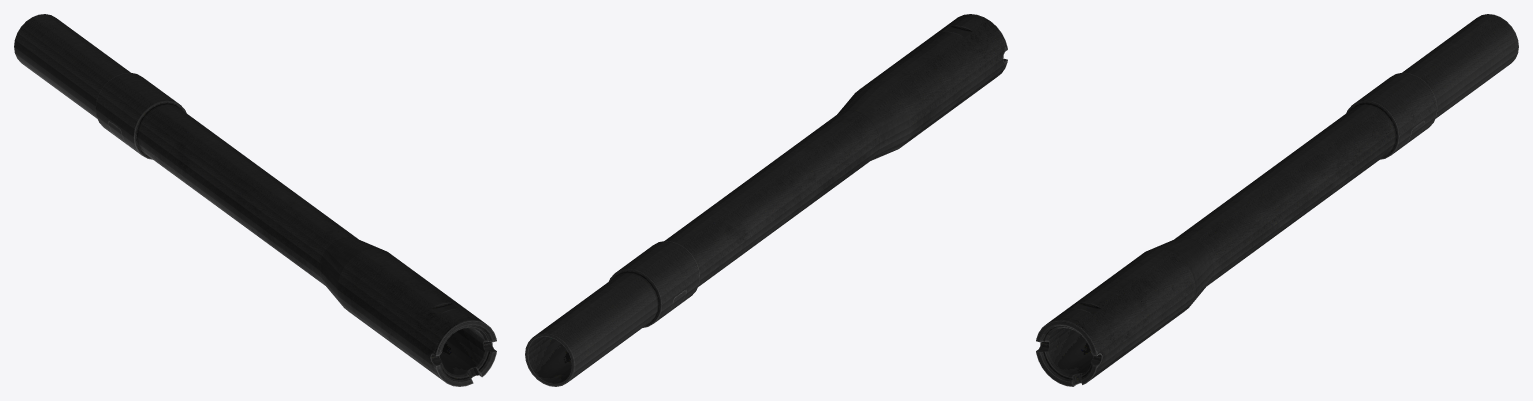
The picture shows the model from 3 angles, left to right: view 1: azimuth 30°, elevation 25°; view 2: azimuth 150°, elevation 25°; view 3: azimuth 330°, elevation 25°; orthographic projection.
Parts seen in each view (by area): view 1: TW_66ffac601f7492c901027bbb_PZ_Import; view 2: TW_66ffac601f7492c901027bbb_PZ_Import; view 3: TW_66ffac601f7492c901027bbb_PZ_Import.
Part boxes in pixels (x1,y1,x2,y2): TW_66ffac601f7492c901027bbb_PZ_Import: (14, 14, 496, 386); TW_66ffac601f7492c901027bbb_PZ_Import: (525, 14, 1007, 386); TW_66ffac601f7492c901027bbb_PZ_Import: (1036, 14, 1518, 386).
Bounding box in the file's own units: 0.016 × 0.1907 × 0.016.
1 material, 1 textured.
